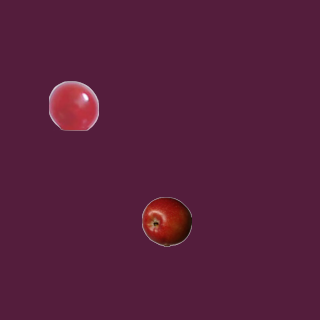Apple Braeburn: (141, 196, 191, 246)
Redcurrant: (48, 80, 98, 130)
